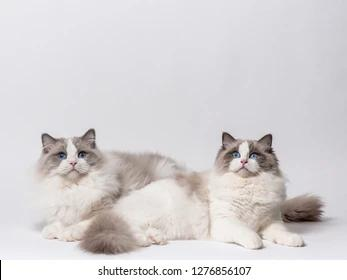ragdoll: (34, 120, 105, 189)
